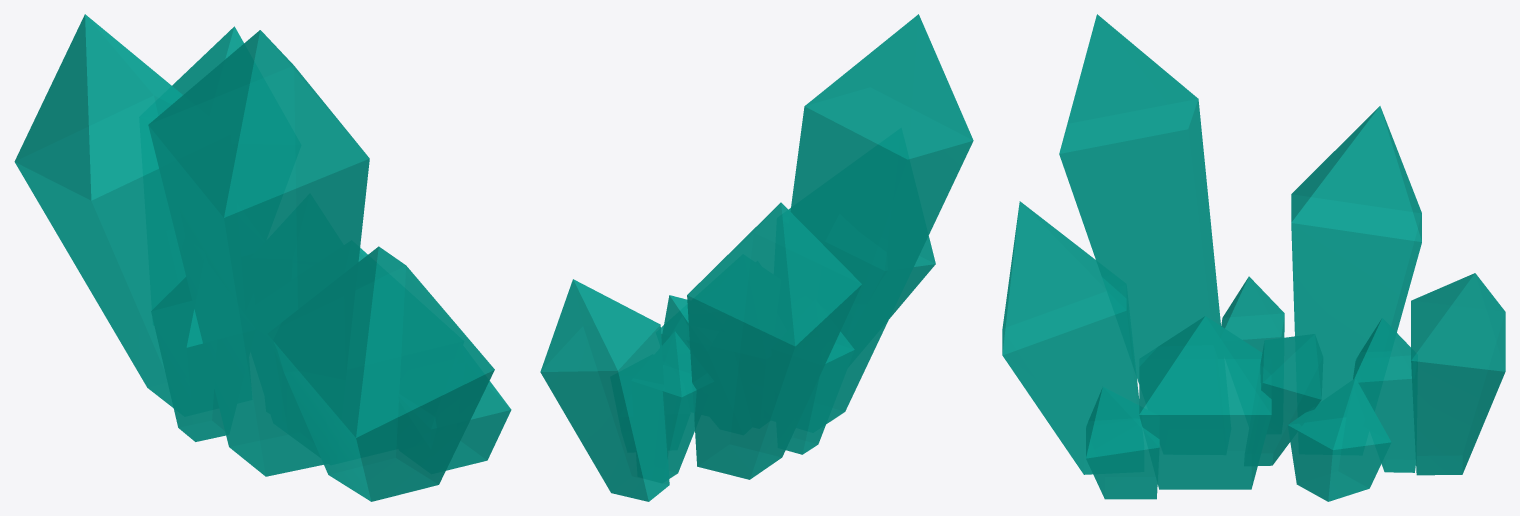
Rendered from Crystal.fbx.
The picture shows the model from 3 angles, left to right: view 1: azimuth 30°, elevation 25°; view 2: azimuth 150°, elevation 25°; view 3: azimuth 270°, elevation 25°; orthographic projection. The views are drawn at different scales.
Visible parts, largest first — view 1: Crystall.005; view 2: Crystall.005; view 3: Crystall.005.
Boxes of the visible parts, <box> form: Crystall.005: <box>14,14,511,501</box>; Crystall.005: <box>540,14,973,501</box>; Crystall.005: <box>1002,14,1505,501</box>.
Size of the model in its own units: 363 by 560 by 647.
